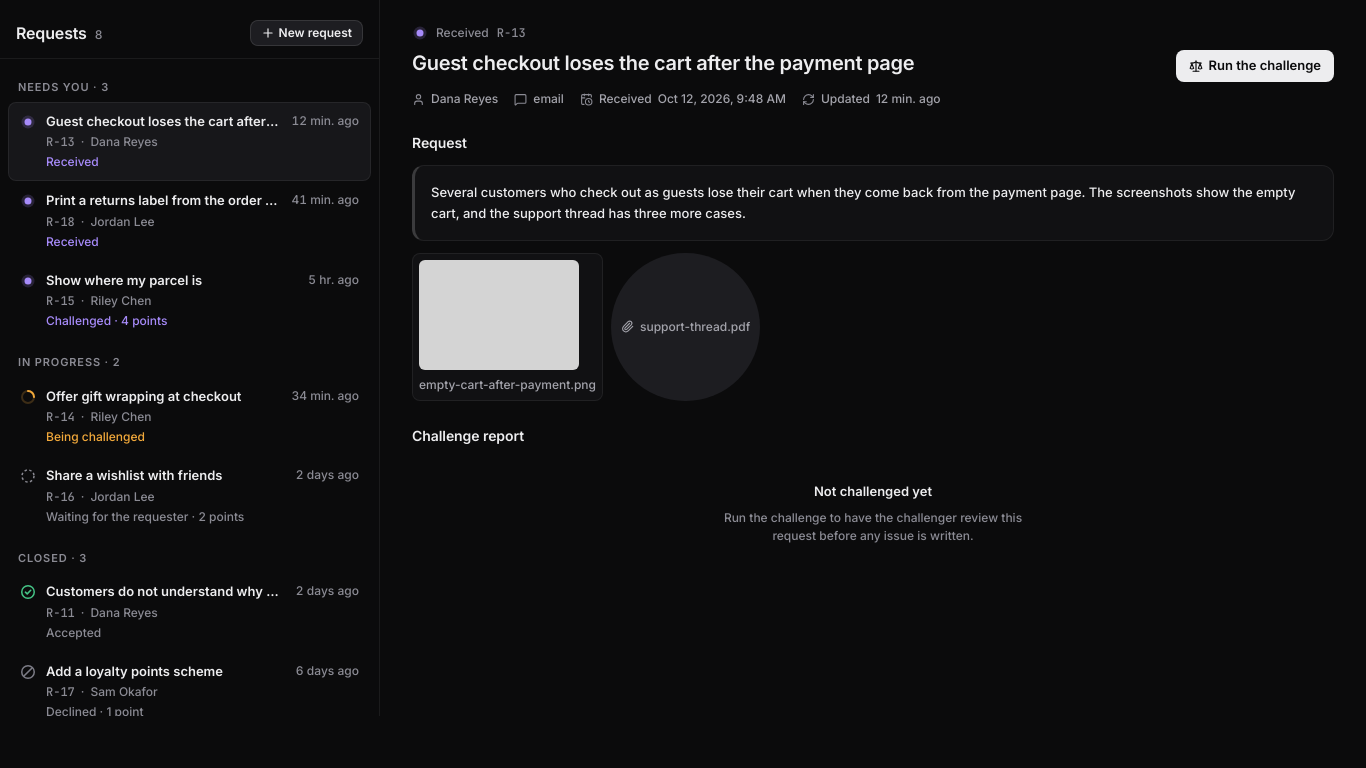
it: request.challenge › shows the refusal of the factory
What coordinates should you click on to do the following:
click the button "Run the challenge"
I would click on:
 (1255, 66)
Its box is [1176,50,1334,82].
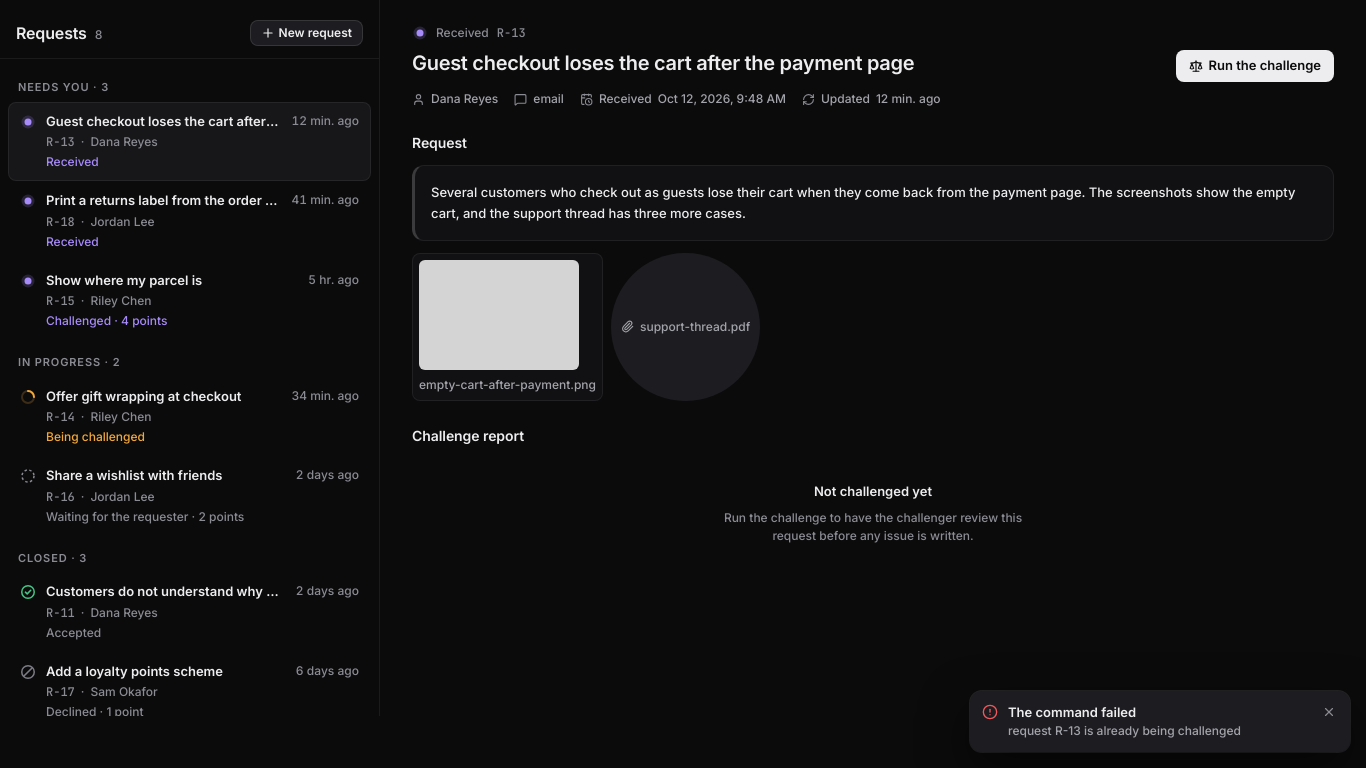
Expected: the text "The command failed" is shown, [1008,704,1136,720]
Expected: the text "request R-13 is already being challenged" is shown, [1008,723,1241,738]
